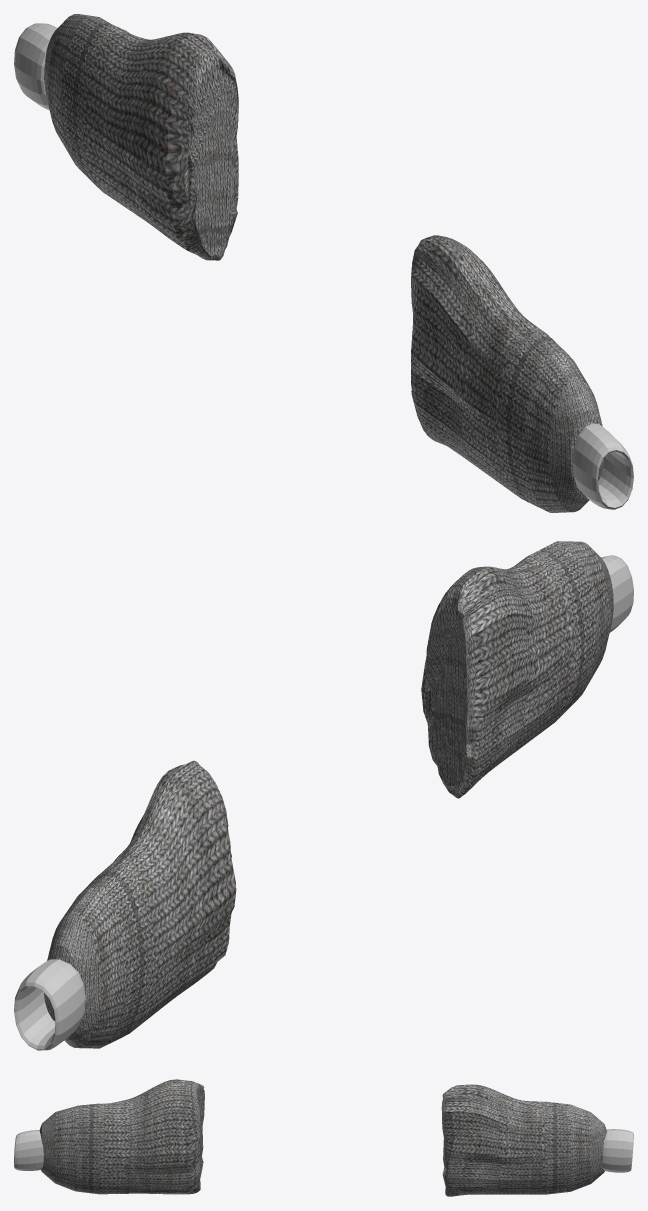
The model's file is puff-sleeve-half.fbx.
The picture shows the model from 3 angles, top to bottom: view 1: azimuth 30°, elevation 25°; view 2: azimuth 150°, elevation 25°; view 3: azimuth 270°, elevation 25°; orthographic projection. The views are drawn at different scales.
Parts seen in each view (by area): view 1: Cylinder, Cylinder.001, Cube.006, Cube.003; view 2: Cylinder.001, Cylinder, Cube.003, Cube.006; view 3: Cylinder.001, Cylinder, Cube.003, Cube.006.
Part boxes in pixels (x1,y1,x2,y2): Cylinder: [44, 14, 238, 260]; Cylinder.001: [411, 235, 603, 512]; Cube.006: [572, 423, 633, 509]; Cube.003: [14, 23, 57, 109]; Cylinder.001: [421, 541, 613, 798]; Cylinder: [44, 760, 236, 1048]; Cube.003: [14, 959, 85, 1050]; Cube.006: [601, 555, 633, 632]; Cylinder.001: [39, 1079, 204, 1194]; Cylinder: [441, 1084, 606, 1196]; Cube.003: [601, 1129, 633, 1172]; Cube.006: [14, 1130, 43, 1170].
Bounding box in the file's own units: 26.28 × 74.04 × 370.
